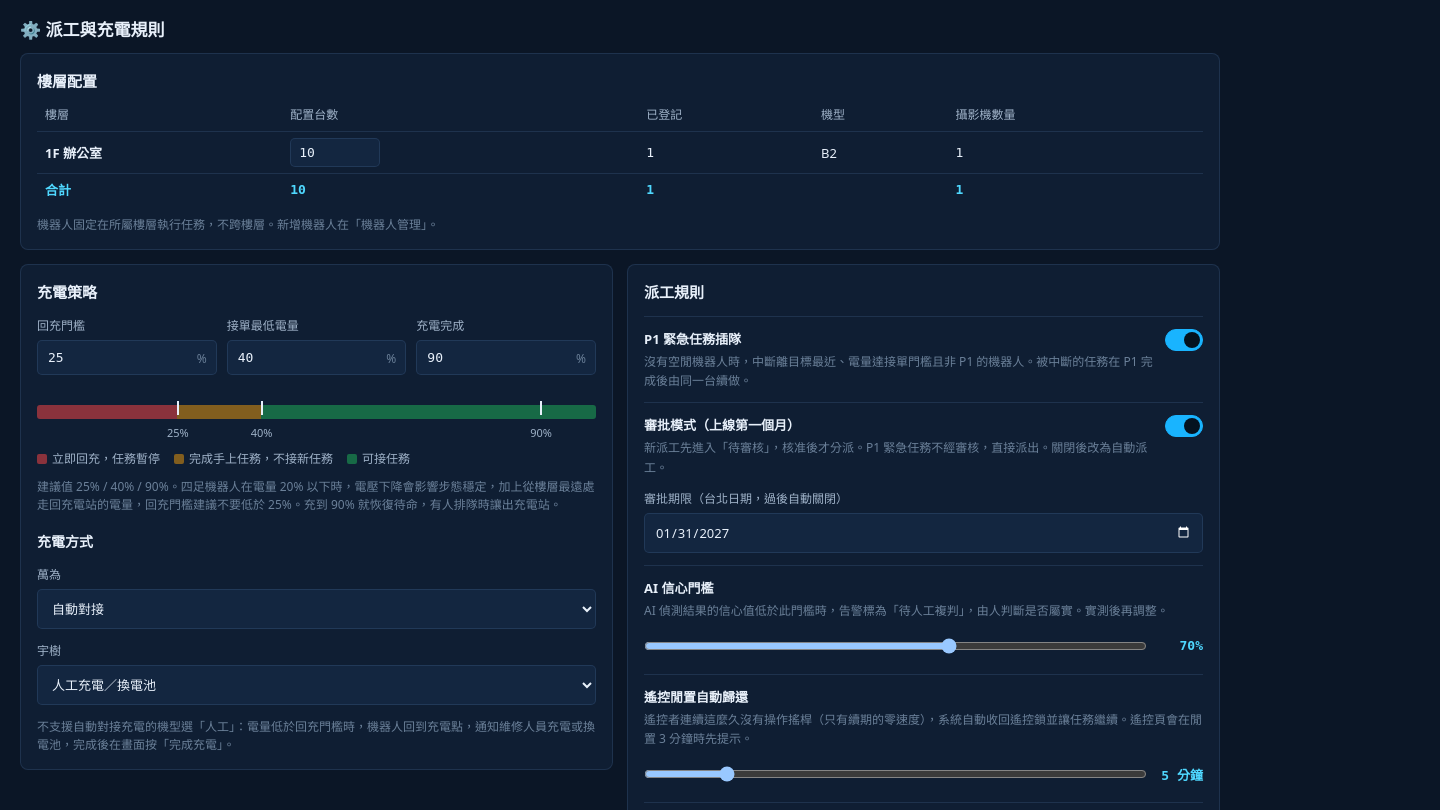
Test case: 派工與充電規則頁（T-20） › 還原預設值
Replace the text in the number field labelled "回充門檻" with "33" at (127, 358), box top-left (37, 340), bottom-right (217, 375)
(page scrolled)
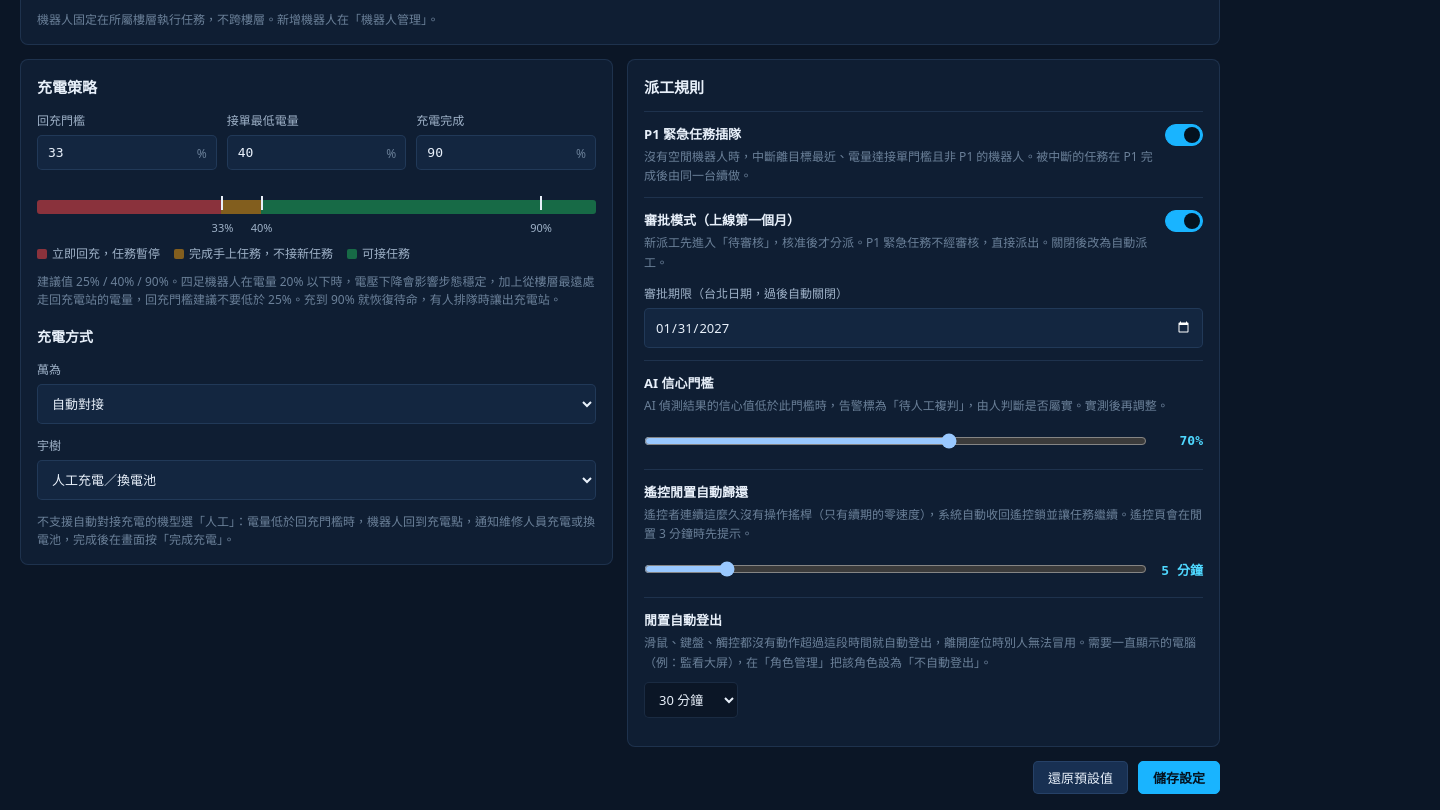
Click the button "還原預設值" at (1080, 777), box top-left (1033, 761), bottom-right (1128, 794)
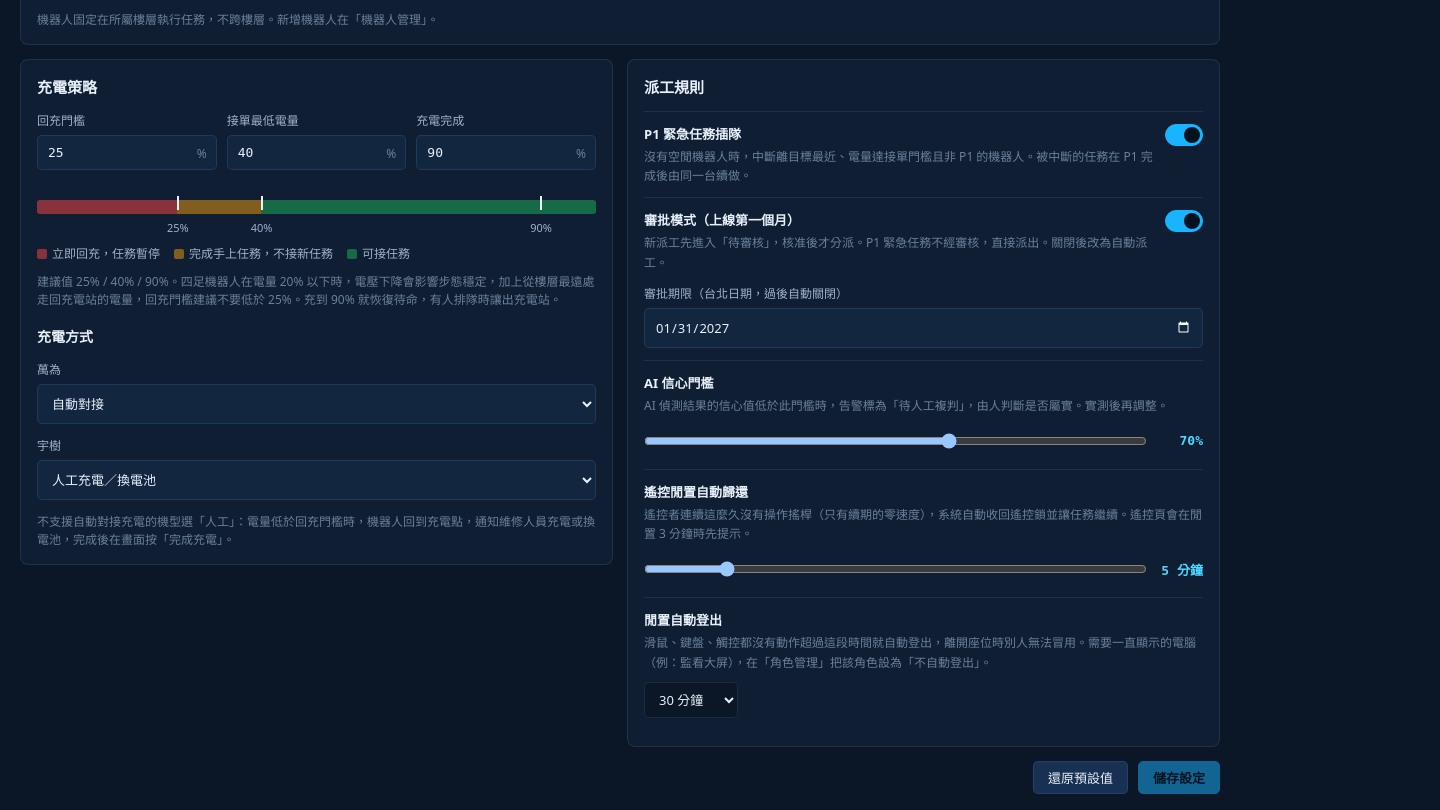
Expected: the number field labelled "回充門檻" holds "25", top-left (37, 135), bottom-right (217, 170)
